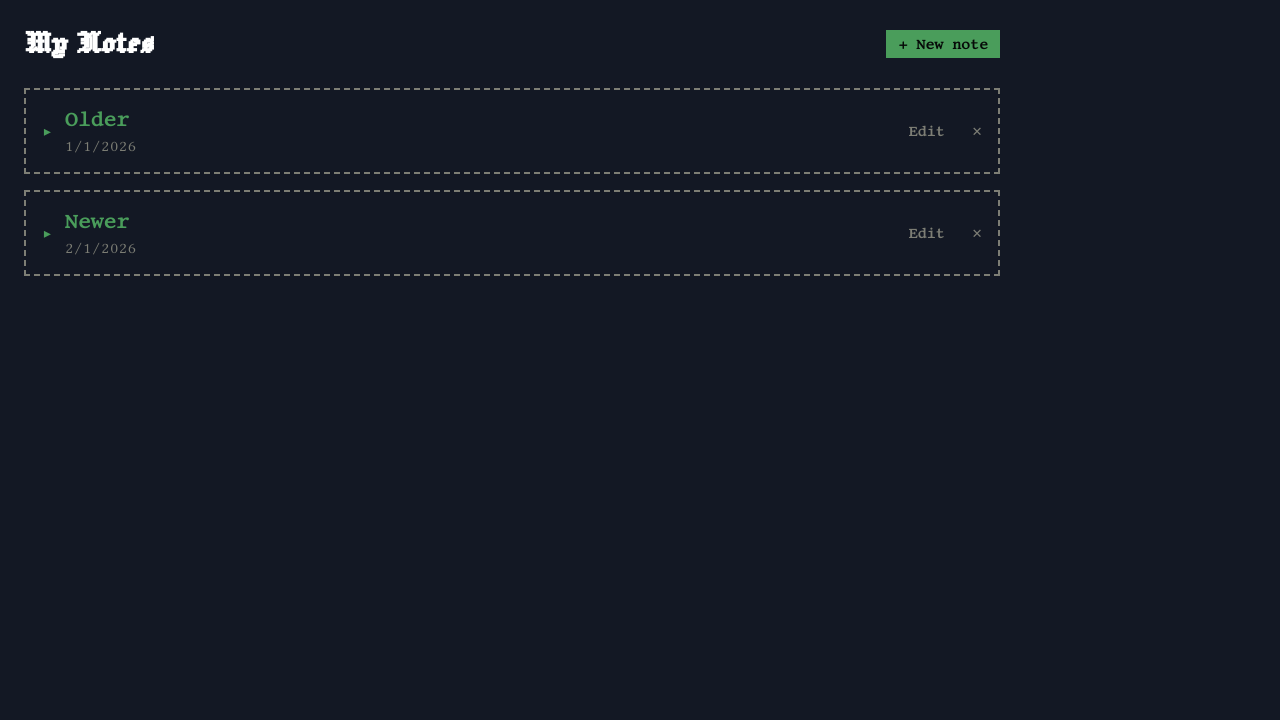
Notes › deletes a server note locally when offline
Expected: the text "Newer" is shown, left=65, top=208, right=136, bottom=236
Click the button named "Delete Newer": (977, 233) left=956, top=221, right=998, bottom=245
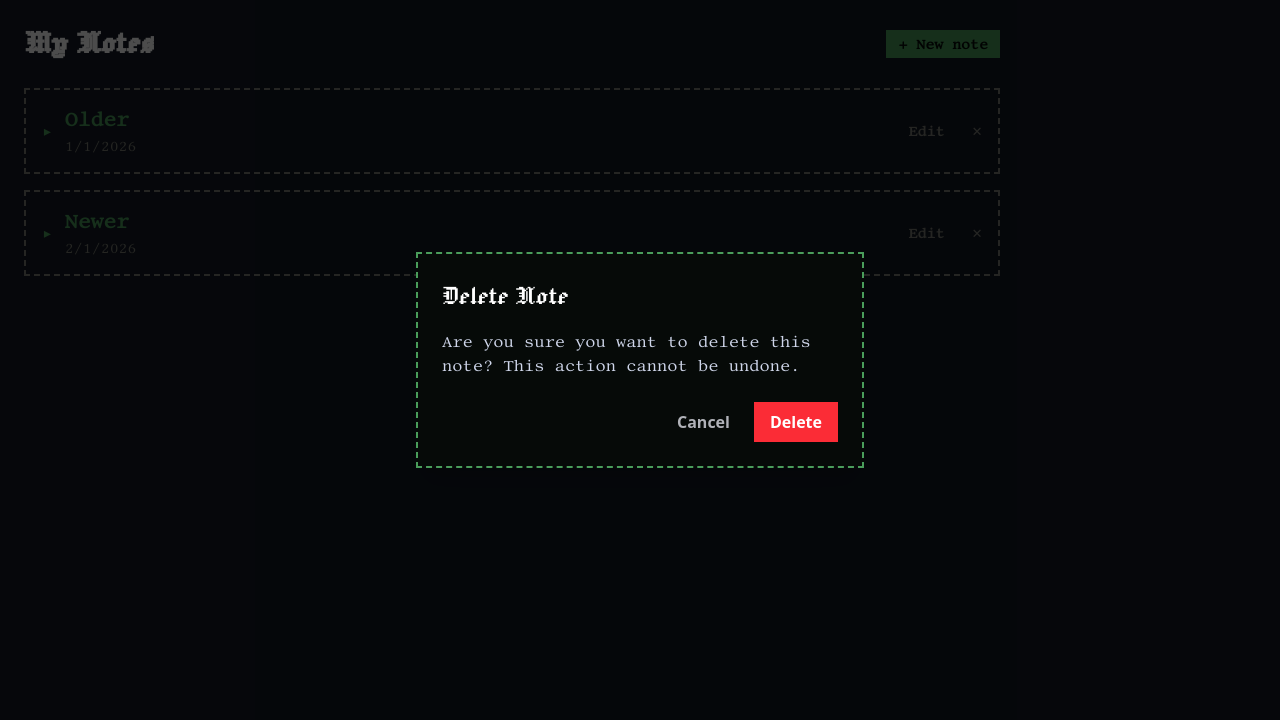
Click the button "Delete": (796, 422) left=754, top=402, right=838, bottom=442
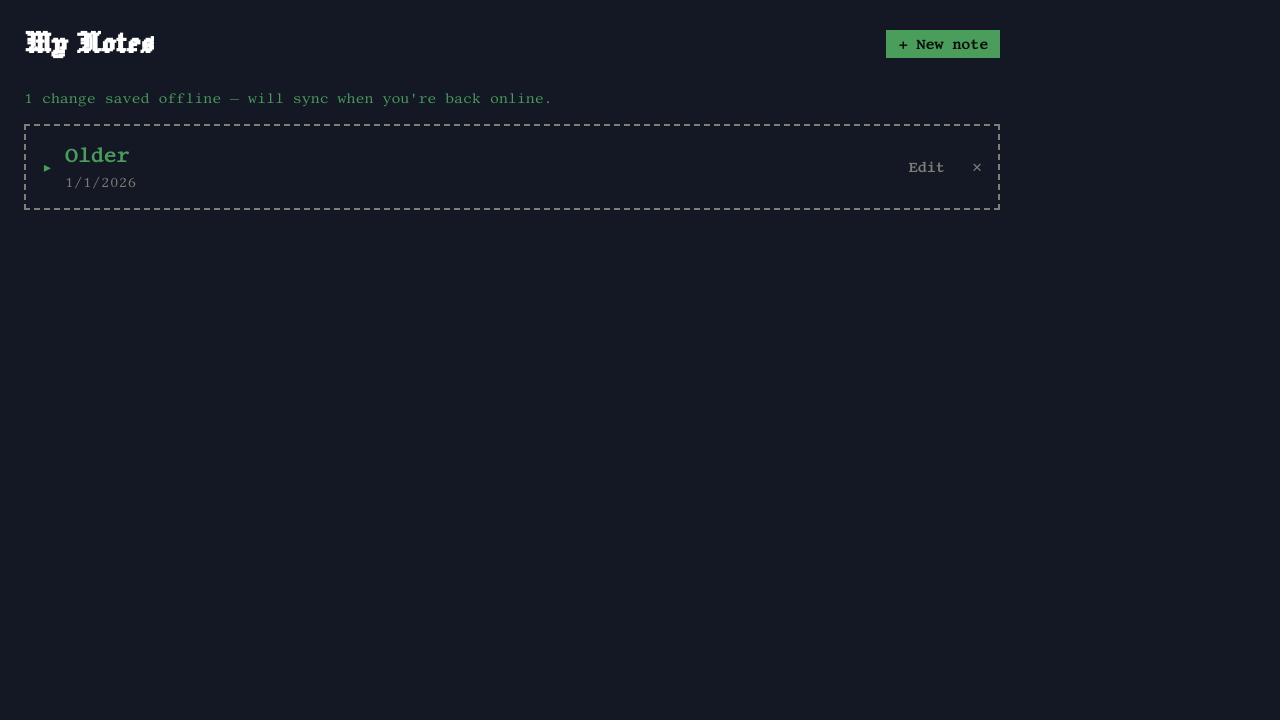
Expected: the button "Newer" is gone
Expected: the text "1 change saved offline — will sync when you're back online." is shown, left=24, top=90, right=553, bottom=106
